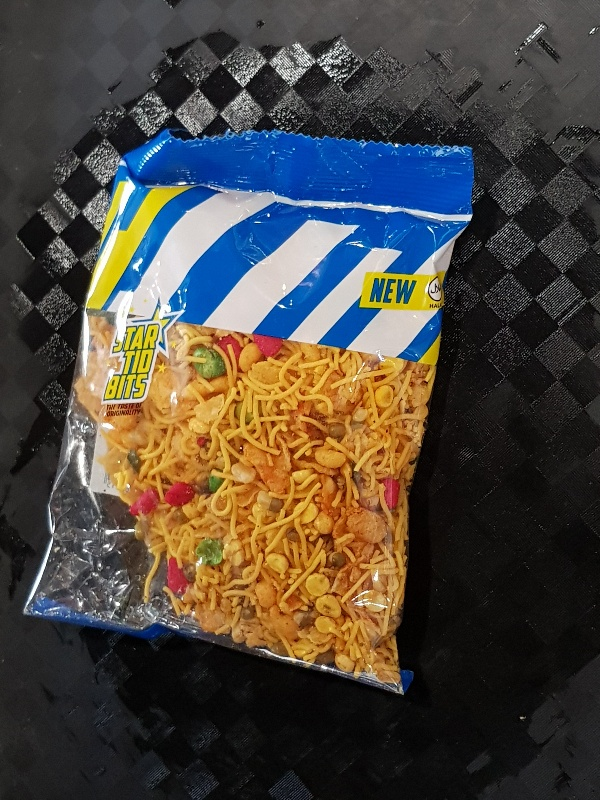Star Tidbits Mixer: (25, 127, 478, 698)
